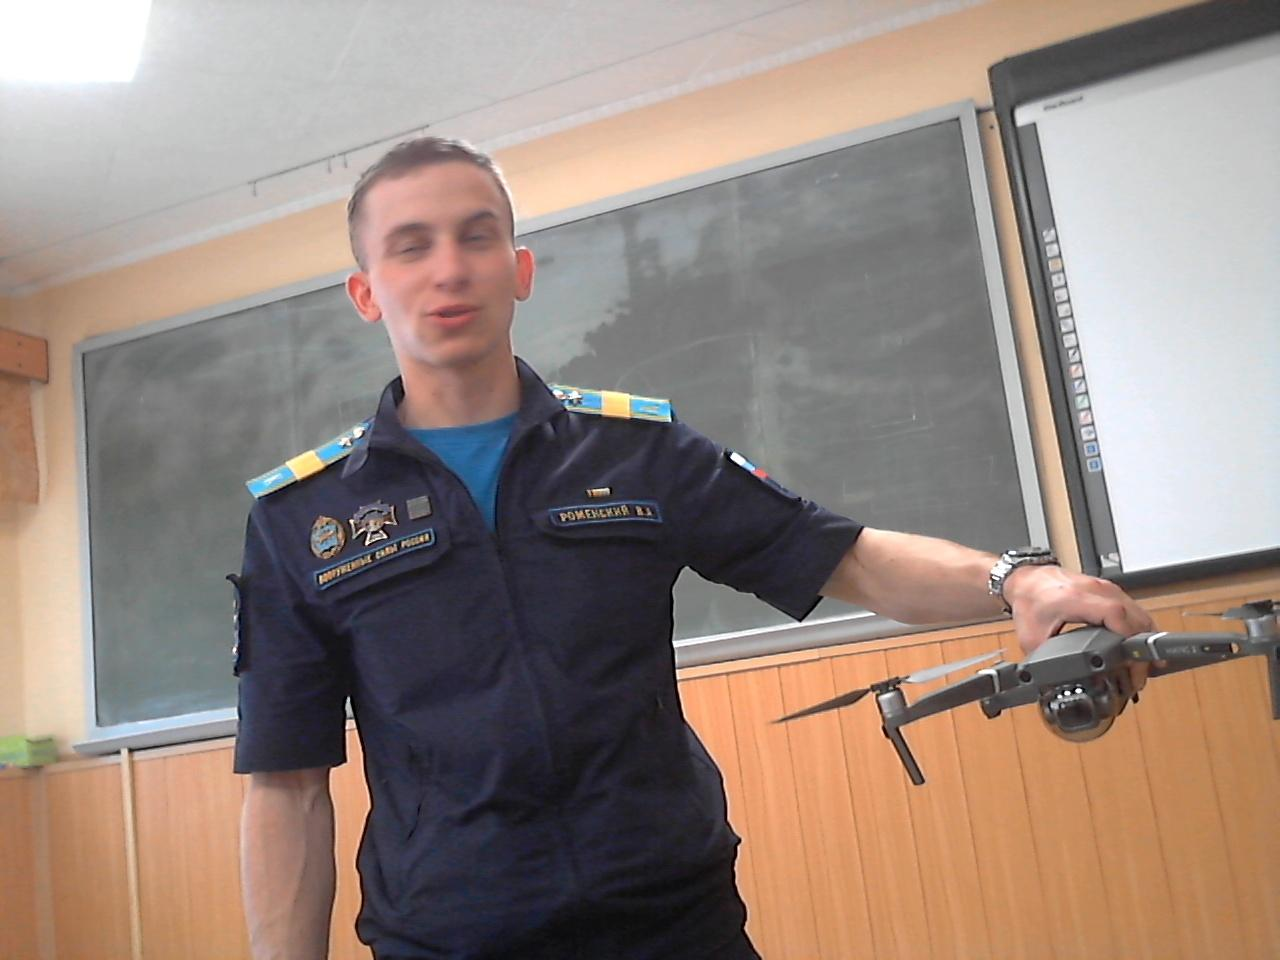drone: (752, 590, 1280, 795)
